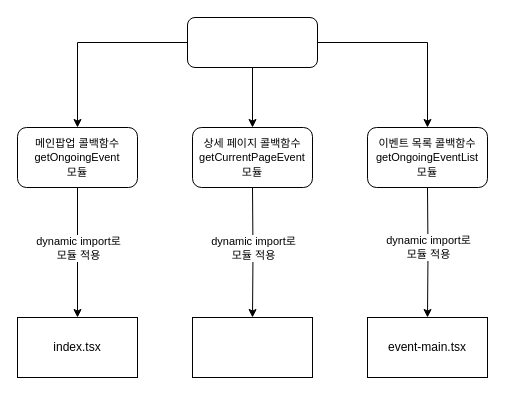
Image size: 505x395. Some labels were removed from this diagram. The box of each missing label's shape, as (x1, y1, x2, y2) in pixels:
[detail].tsx: (192, 316, 312, 378)
getS3Data 모듈: (186, 16, 318, 68)
